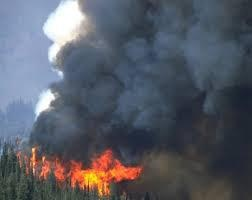fire: (23, 144, 141, 192)
